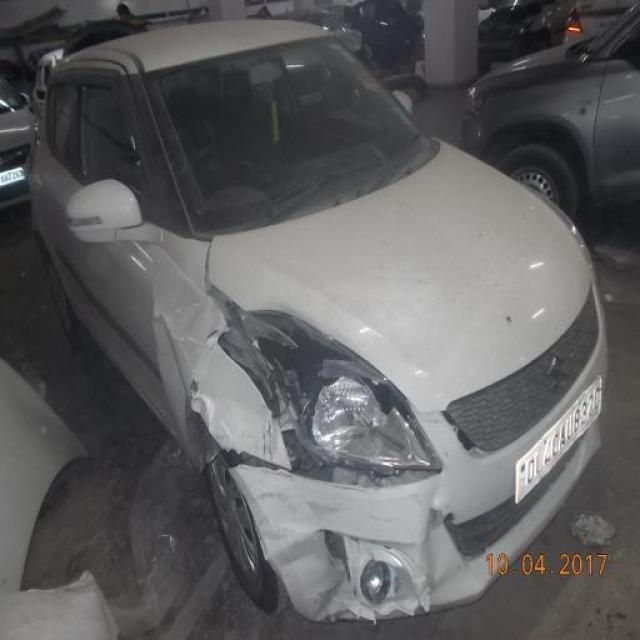crush: (146, 239, 448, 622)
shatter: (225, 313, 445, 488)
